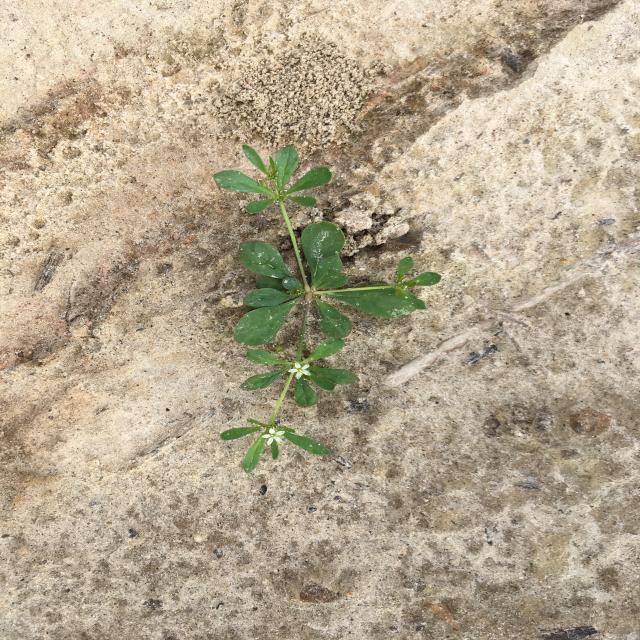Carpetweed: (220, 144, 442, 474)
